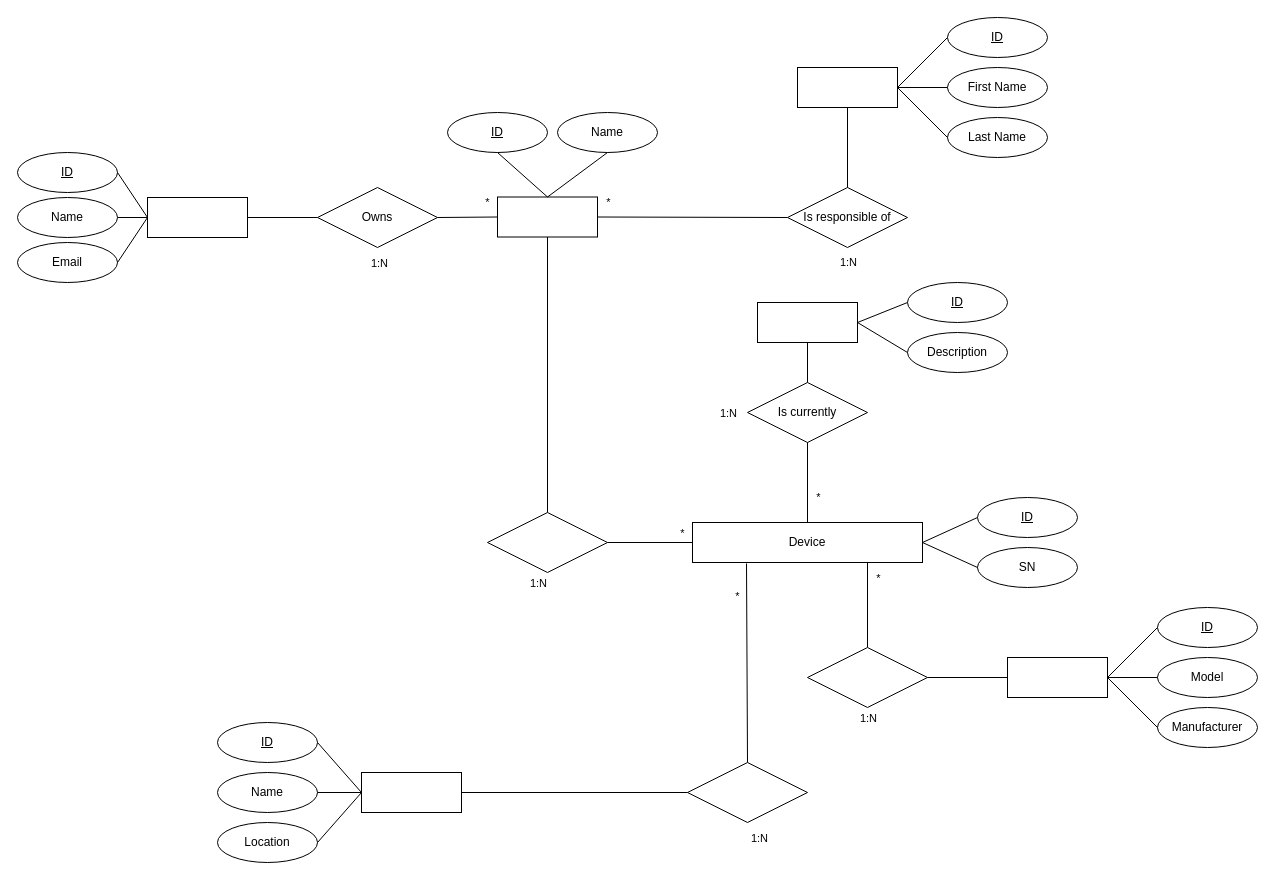
Some shapes in this 1275 by 880 pixel diagram are drawn without their labels. Here are the shapes that lost their labels. From the top down, the centre of each, then its label:
point 847,87: Team Lead
point 197,217: Client
point 547,216: Project
point 807,322: Status
point 547,542: Assigned to
point 867,677: Can be
point 1057,677: Type
point 411,792: Laboratory
point 747,792: Is located at
